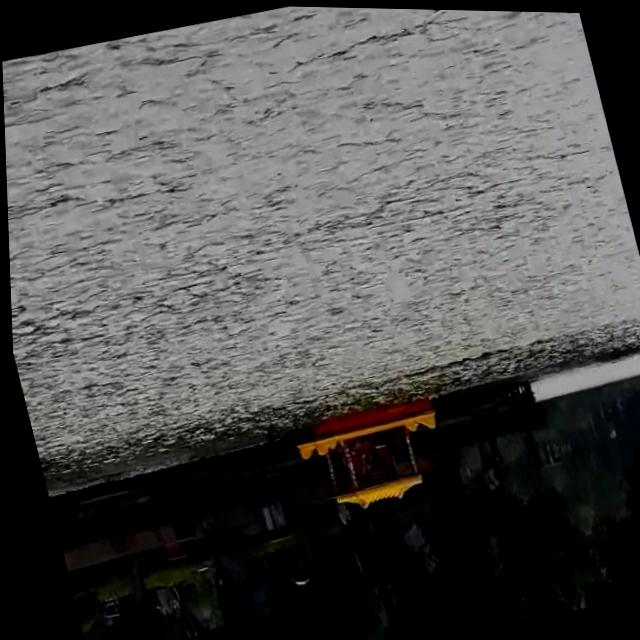ship2: (296, 399, 429, 506)
